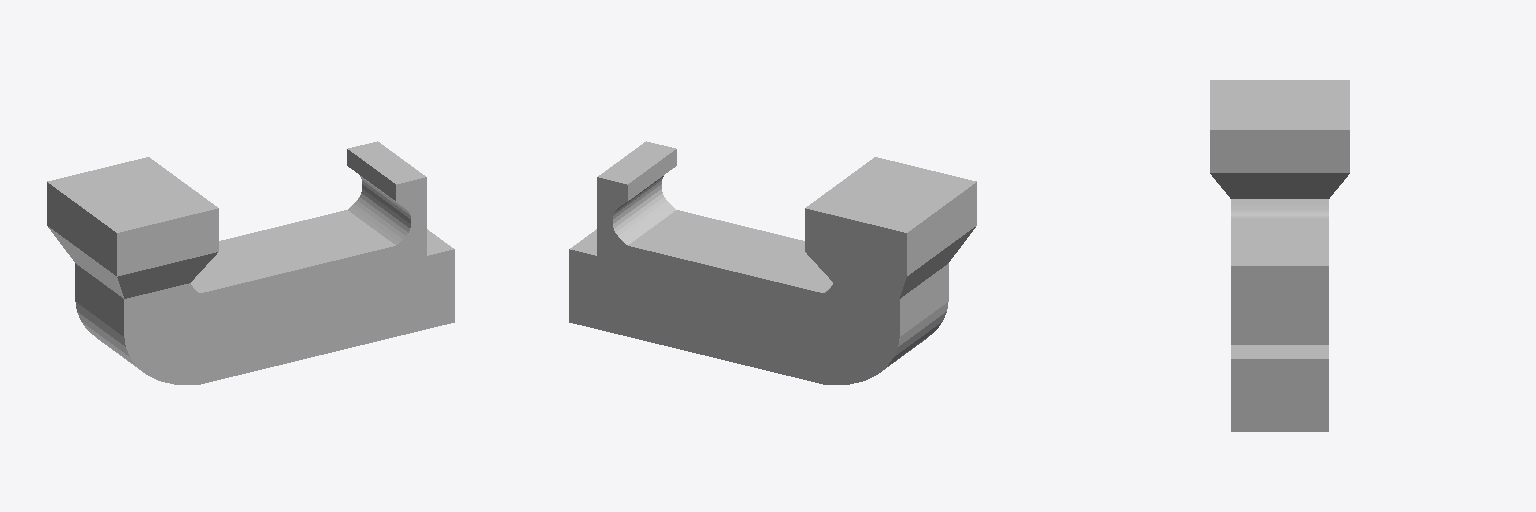
Rendered from Axial-Long Arm.obj.
The picture shows the model from 3 angles: view 1: azimuth 30°, elevation 25°; view 2: azimuth 150°, elevation 25°; view 3: azimuth 270°, elevation 25°; orthographic projection.
Parts seen in each view (by area): view 1: polySurface8643 Flower_board:FlowerPl11; view 2: polySurface8643 Flower_board:FlowerPl11; view 3: polySurface8643 Flower_board:FlowerPl11.
Boxes of the visible parts, box(x1,y1,x2,y2) form: polySurface8643 Flower_board:FlowerPl11: box(47, 141, 454, 384); polySurface8643 Flower_board:FlowerPl11: box(569, 141, 976, 384); polySurface8643 Flower_board:FlowerPl11: box(1210, 80, 1349, 431).
Size of the model in its own units: 0.3711 by 0.1854 by 0.1297.